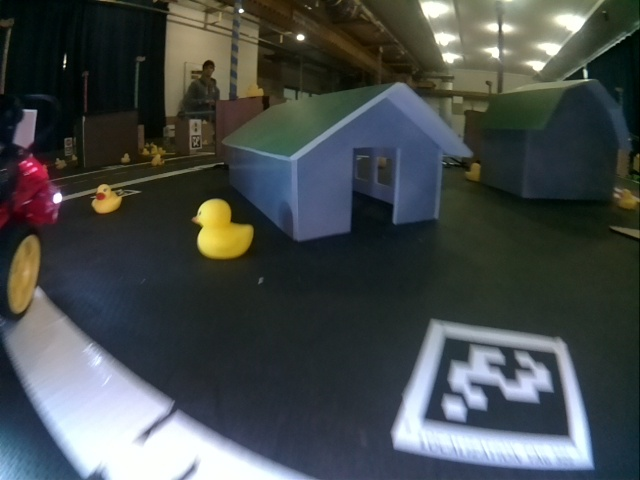Duckie: (191, 200, 252, 258), (91, 186, 123, 213), (617, 189, 637, 211), (466, 161, 481, 181), (151, 155, 165, 166), (121, 154, 131, 162)
Duckiebot: (1, 146, 59, 323)
QR code: (392, 319, 593, 469), (191, 136, 201, 148)
Signal sign: (191, 121, 200, 135)
